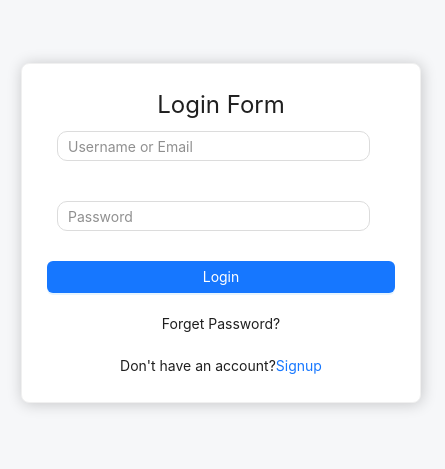
Test: Login Page › shows validation errors if form submitted empty
Click the button "Login".
click(221, 277)  # box [47,261,395,293]
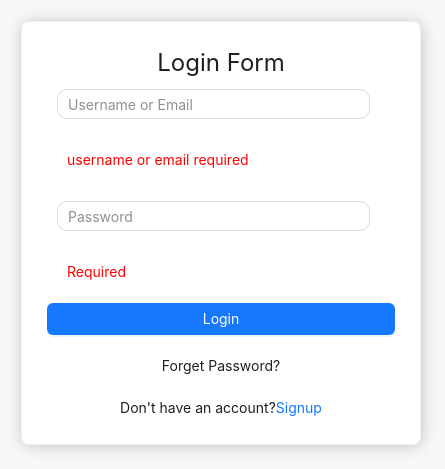
Check: the text "username or email required" is shown, box [67,151,249,168]
